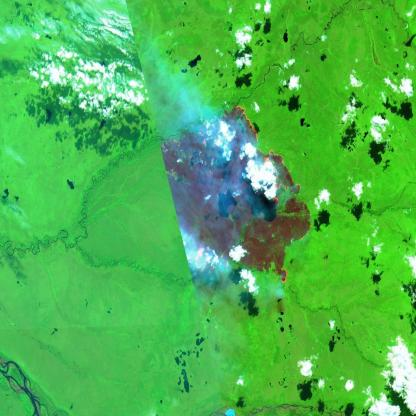fire: (162, 93, 314, 294)
